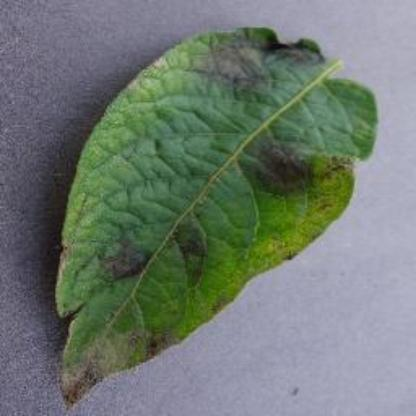Late-Blight: (46, 11, 378, 411)
